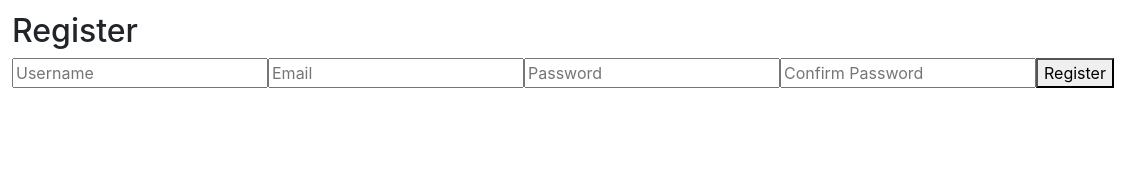
it: error: appends JSON data when register fails with data
Type "testuser" into the field with placeholder "Username" at (140, 73), box [12,58,268,88]
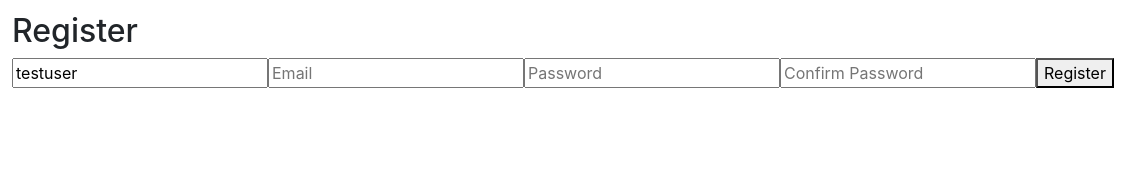
Type "test@example.com" into the field with placeholder "Email" at (396, 73), box [268,58,524,88]
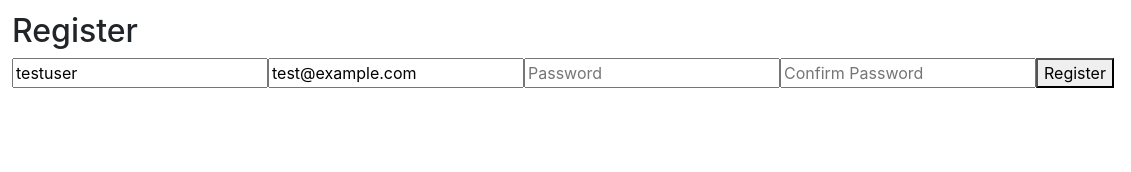
Type "secret" into the password field with placeholder "Password" at (652, 73), box [524,58,780,88]
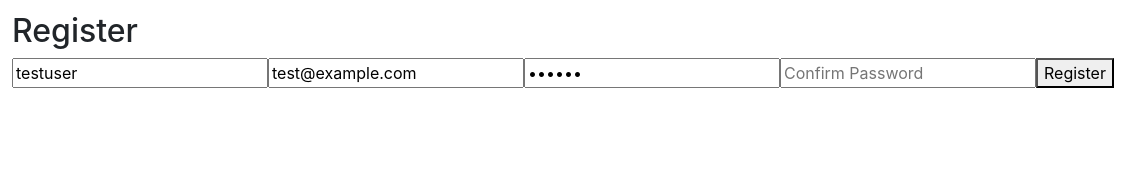
Type "secret" into the password field with placeholder "Confirm Password" at (908, 73), box [780,58,1036,88]
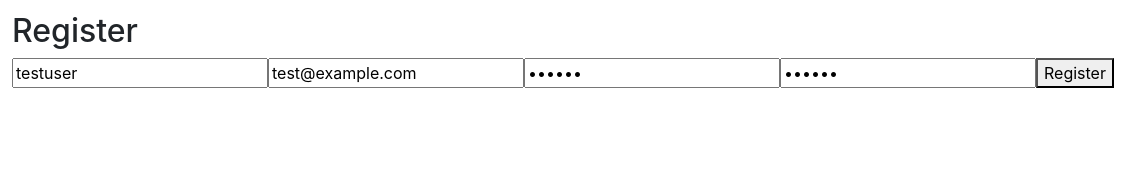
Click the button "Register" at (1075, 73), box [1036,58,1114,88]
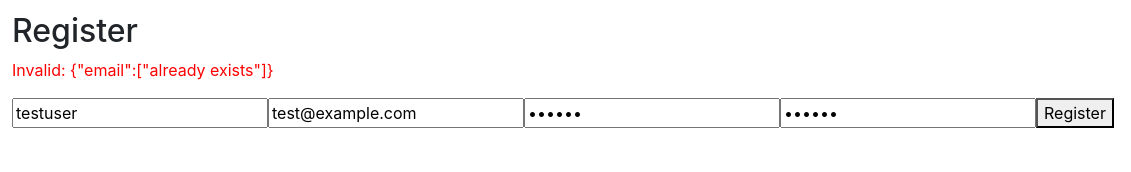
Expected: the text "Invalid: {\"email\":[\"already exists\"]}" is shown, [12,60,274,80]
